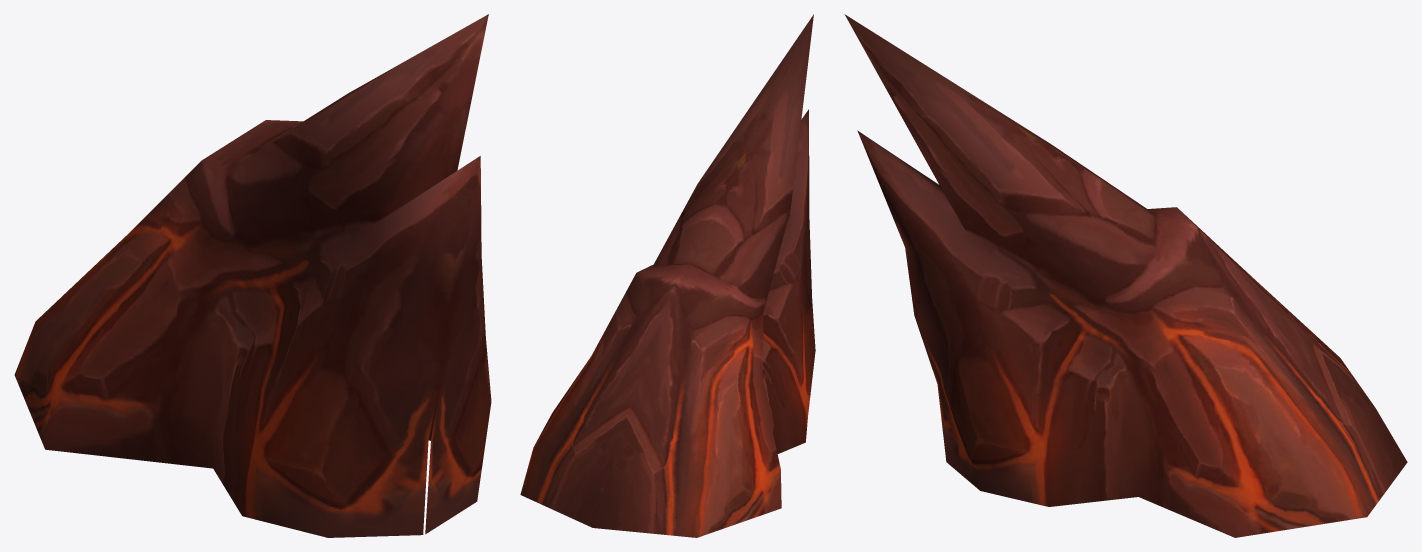
Rendered from Dragon_Stone_03.FBX.
3 views of the same model, side by side, from view 1: azimuth 30°, elevation 25°; view 2: azimuth 150°, elevation 25°; view 3: azimuth 270°, elevation 25° (orthographic). The views are drawn at different scales.
Visible parts, largest first — view 1: Dragon_Stone_03; view 2: Dragon_Stone_03; view 3: Dragon_Stone_03.
Boxes of the visible parts, left/top/right/bottom form: Dragon_Stone_03: left=14, top=14, right=491, bottom=537; Dragon_Stone_03: left=520, top=14, right=815, bottom=537; Dragon_Stone_03: left=844, top=14, right=1407, bottom=537.
Size of the model in its own units: 2.66 by 3.7 by 4.21.
